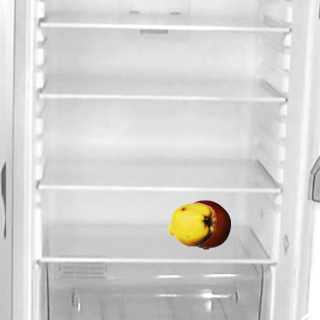Apple Braeburn: (180, 199, 230, 249)
Quince: (166, 199, 216, 249)
